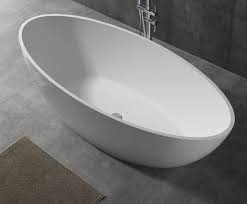bathub: (17, 8, 235, 178)
